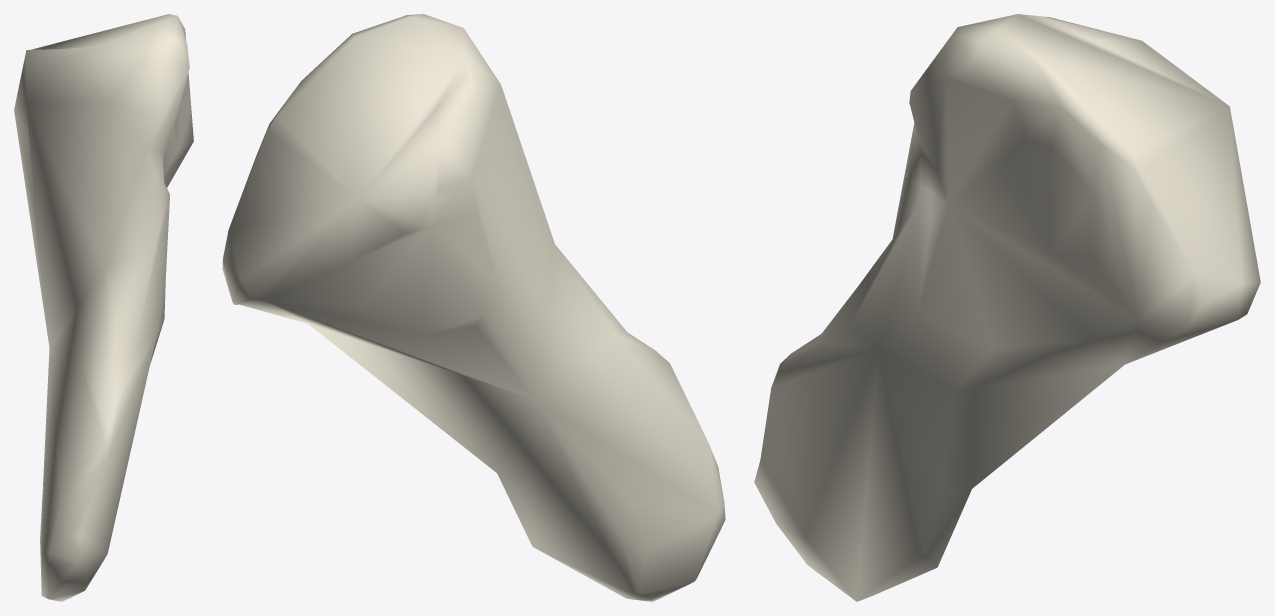
The picture shows the model from 3 angles, left to right: view 1: azimuth 30°, elevation 25°; view 2: azimuth 150°, elevation 25°; view 3: azimuth 270°, elevation 25°; orthographic projection. The views are drawn at different scales.
Visible parts, largest first — view 1: ZA_5f1ee7ec033a6f14; view 2: ZA_5f1ee7ec033a6f14; view 3: ZA_5f1ee7ec033a6f14.
Boxes of the visible parts, x1,y1,x2,y2 form: ZA_5f1ee7ec033a6f14: [14, 14, 193, 601]; ZA_5f1ee7ec033a6f14: [222, 14, 725, 601]; ZA_5f1ee7ec033a6f14: [754, 14, 1260, 601].
Bounding box in the file's own units: 0.014 × 0.0241 × 0.0168.
